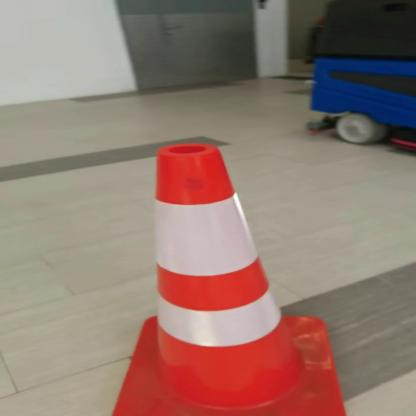cone: (112, 143, 371, 415)
